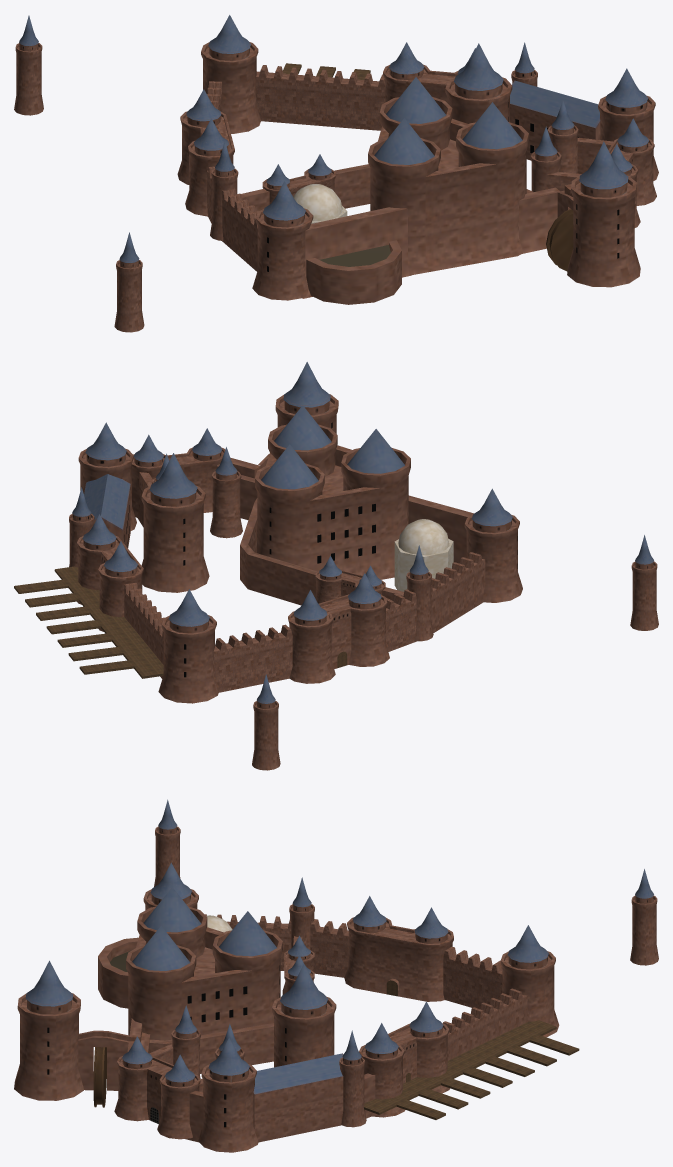
3 renders of one model, top to bottom at view 1: azimuth 30°, elevation 25°; view 2: azimuth 150°, elevation 25°; view 3: azimuth 270°, elevation 25°, orthographic. The views are drawn at different scales.
Parts seen in each view (by area): view 1: landmark; view 2: landmark; view 3: landmark.
Part boxes in pixels (x1,y1,x2,y2): landmark: (14,15,658,332); landmark: (14,362,658,770); landmark: (14,799,658,1152).
Size of the model in its own units: 43.38 by 11.55 by 44.11.
Materials: 1 (1 with a texture image).
